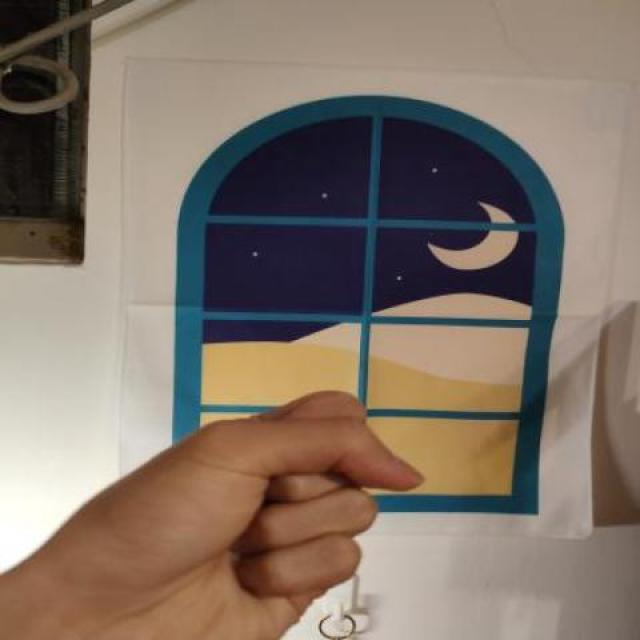fist: (7, 389, 425, 640)
